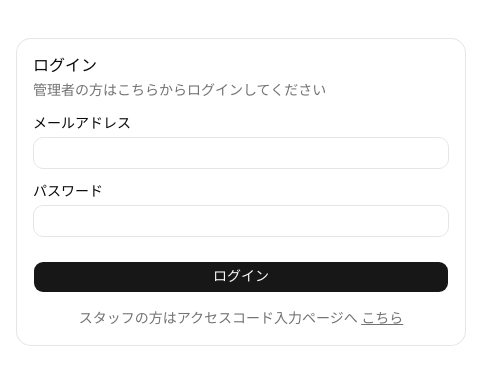
LoginPage › 空送信時にバリデーションエラーが表示されること
What coordinates should you click on to do the following:
click the button "ログイン"
I would click on:
 (241, 277)
Its box is x1=33 y1=261 x2=449 y2=293.
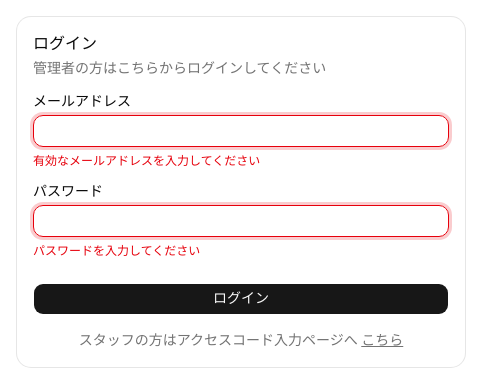
Now the text "有効なメールアドレスを入力してください" is shown, box x1=33 y1=154 x2=260 y2=168
